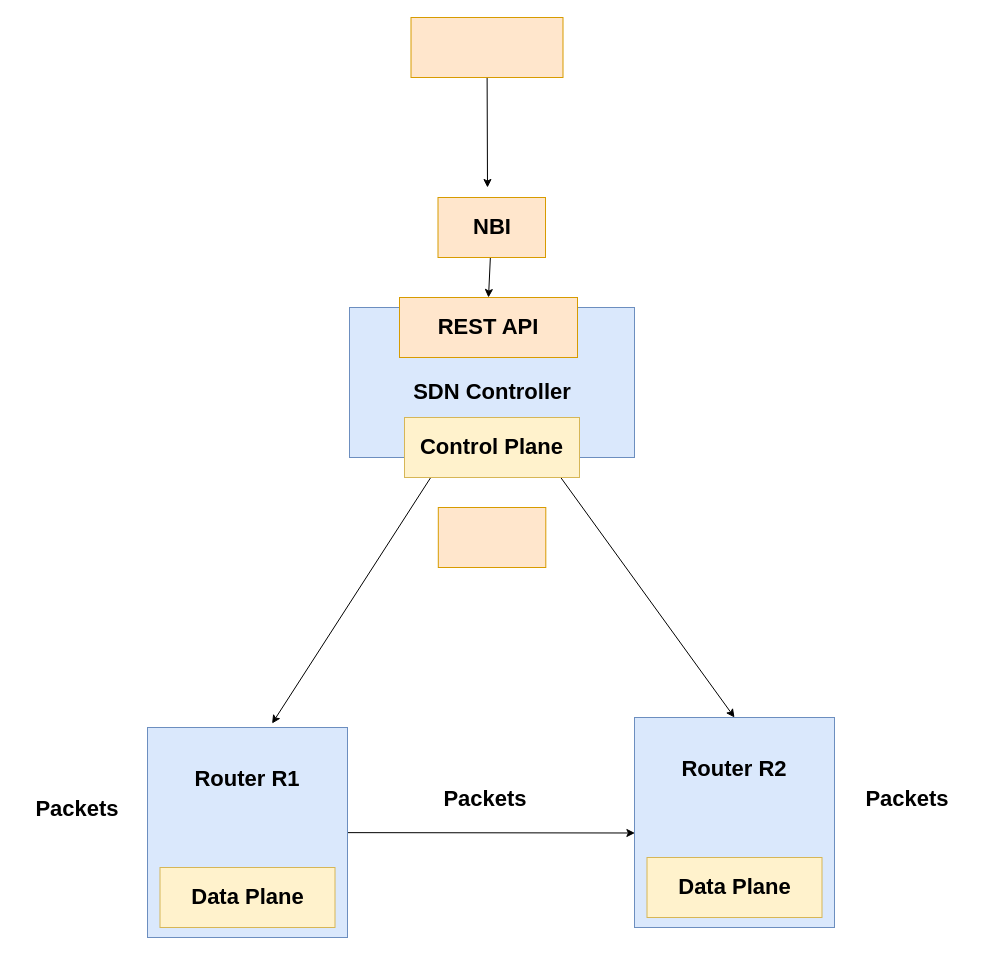
Some shapes in this 984 by 955 pixel diagram are drawn without their labels. The shapes that lost their labels are listed below. From the top down, each one's centre as x and y in pixels, then its label:
At (486,47): "App".
At (491,537): "SBI".
